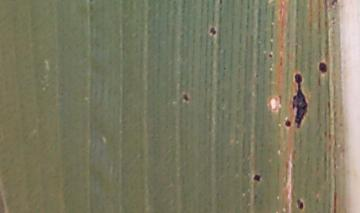tarspot: (291, 73, 308, 127), (318, 60, 327, 74), (283, 117, 292, 128), (296, 198, 304, 210), (181, 93, 190, 102), (208, 26, 217, 35), (253, 174, 261, 181), (331, 1, 338, 7), (268, 52, 273, 59)
